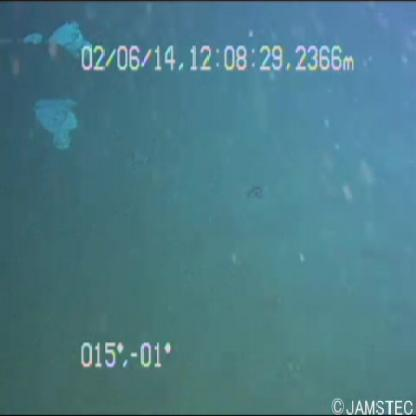Rác: (4, 10, 106, 80), (23, 77, 88, 156)
